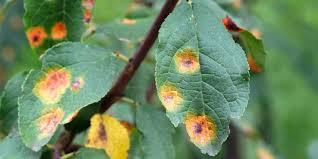leaf_spot: (23, 15, 258, 152)
